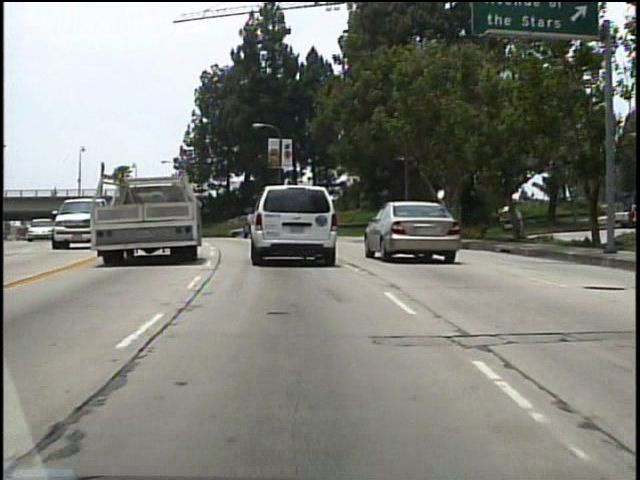person: (49, 183, 60, 204)
